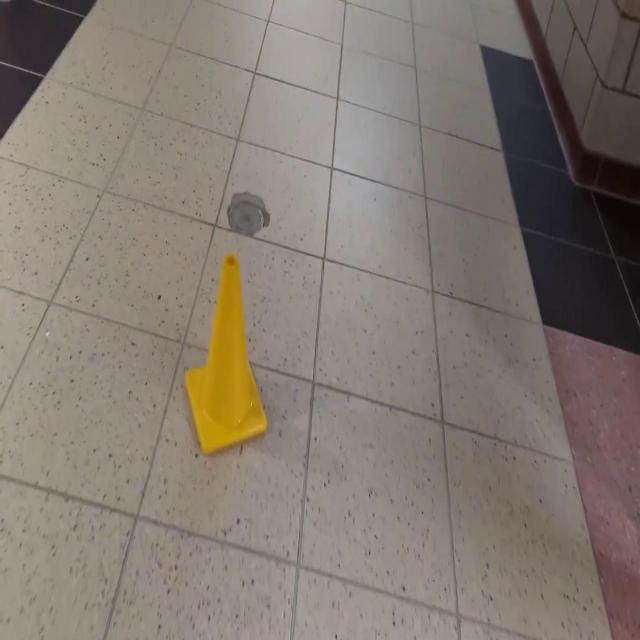frc_cone: (184, 252, 269, 458)
